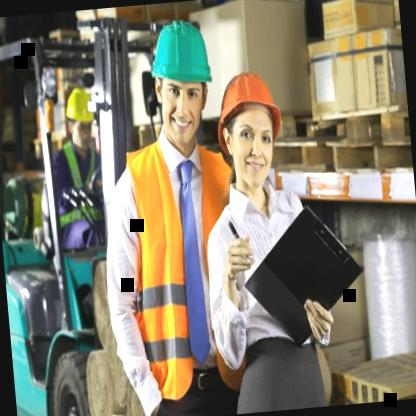helmet: (140, 7, 224, 156), (214, 58, 288, 188), (64, 86, 98, 146)
